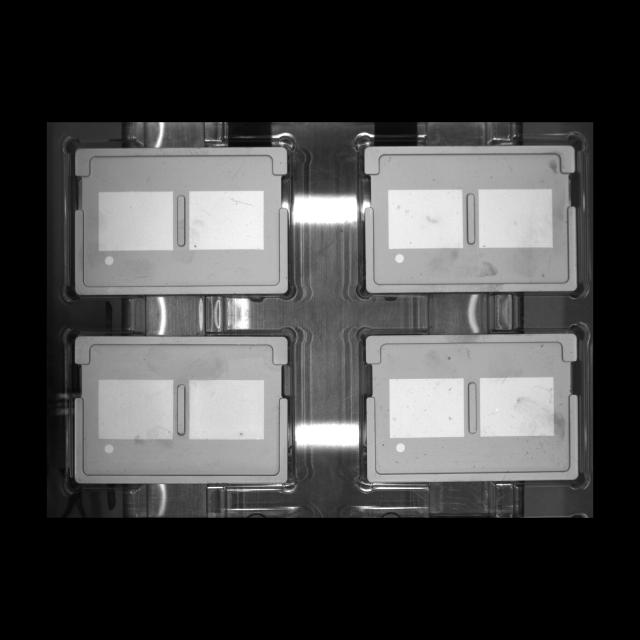product: (62, 324, 302, 495), (61, 133, 300, 303), (354, 324, 588, 491), (355, 133, 587, 301)
